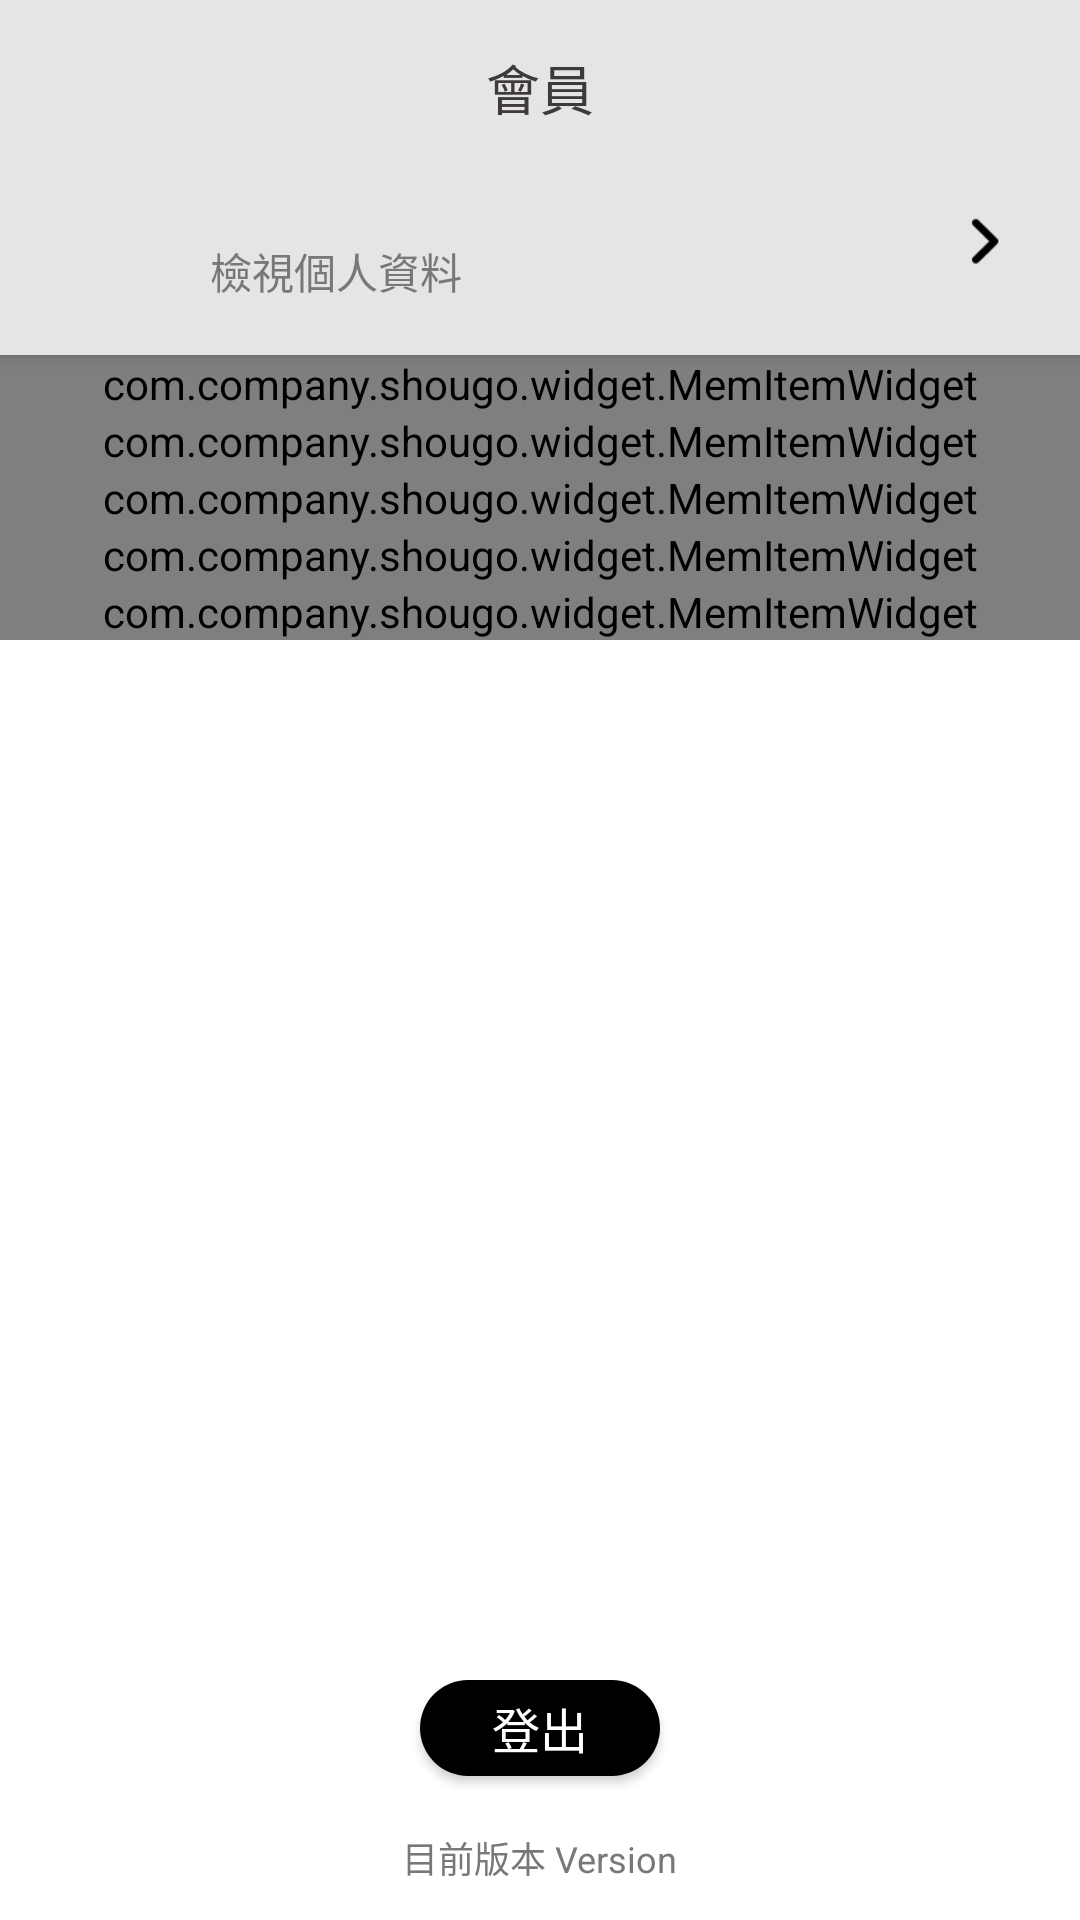

Icon bounding boxes for this 1080px×1920px phone screenshot, format (x1, y1, x2, y2):
right: (972, 218, 999, 264)
